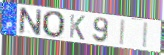9: (91, 17, 109, 44)
I: (119, 18, 127, 47), (142, 21, 150, 49)
K: (68, 13, 86, 42)
N: (18, 7, 43, 37)
O: (41, 10, 67, 40)
